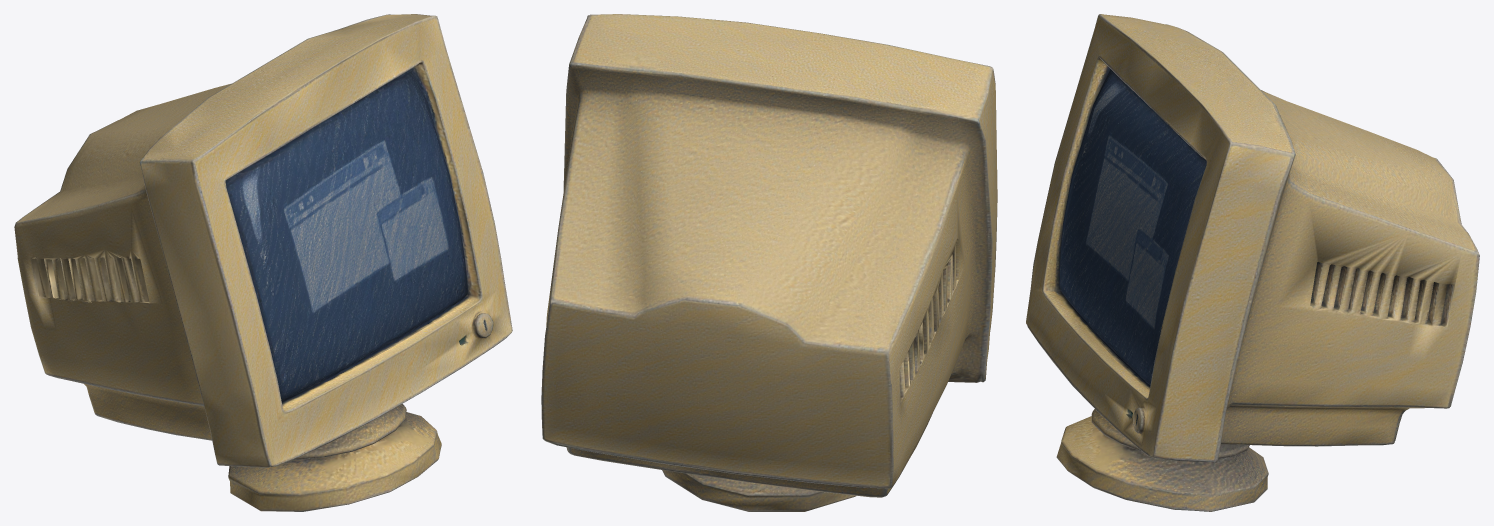
Rendered from SchoolCRT.fbx.
3 views of the same model, side by side, from view 1: azimuth 30°, elevation 25°; view 2: azimuth 150°, elevation 25°; view 3: azimuth 270°, elevation 25° (orthographic). The views are drawn at different scales.
Visible parts, largest first — view 1: tripo_node_b58b6551-e766-4681-adfc-c95ef70e8b66; view 2: tripo_node_b58b6551-e766-4681-adfc-c95ef70e8b66; view 3: tripo_node_b58b6551-e766-4681-adfc-c95ef70e8b66.
Part boxes in pixels (x1=…): tripo_node_b58b6551-e766-4681-adfc-c95ef70e8b66: x1=14, y1=14, x2=512, y2=511; tripo_node_b58b6551-e766-4681-adfc-c95ef70e8b66: x1=541, y1=14, x2=997, y2=511; tripo_node_b58b6551-e766-4681-adfc-c95ef70e8b66: x1=1026, y1=14, x2=1479, y2=511.
Size of the model in its own units: 97.46 by 100 by 98.83.
1 material, 1 textured.
